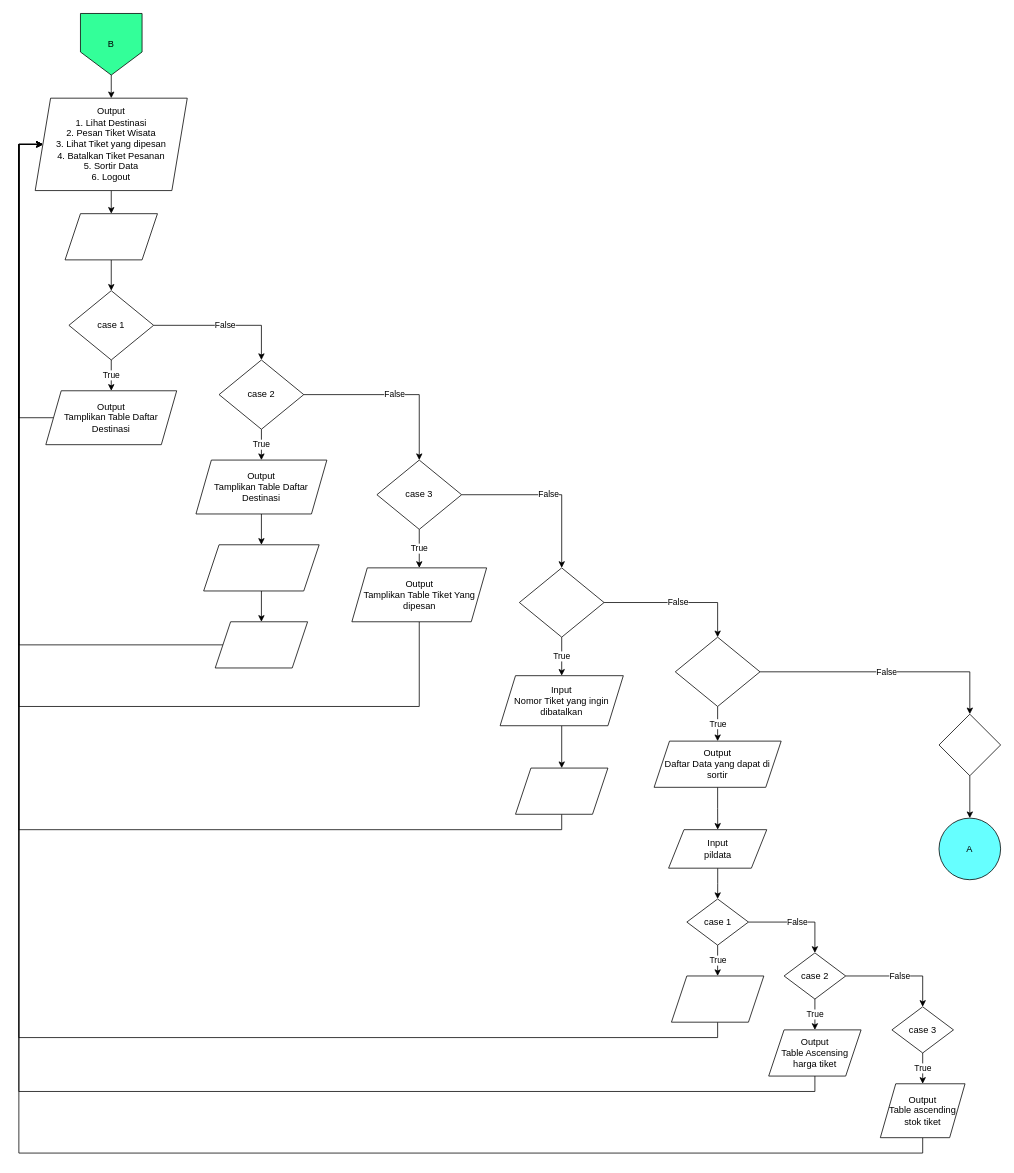
Some shapes in this 1014 by 1173 pixel diagram are drawn without their labels. Each missing label, with the box of its shape:
case 4: (519, 567, 604, 637)
case 5: (675, 636, 760, 706)
Case 6: (938, 713, 1001, 776)
Input nomor destinasi yang dipesan: (203, 544, 319, 591)
Input opsiuser: (64, 213, 157, 260)
Output Table descanding nama wisata: (671, 975, 764, 1022)
Output Tiket Berhasil Dibatalkan: (515, 767, 608, 814)
Output Tiket Berhasil Dipesan: (214, 621, 308, 668)
